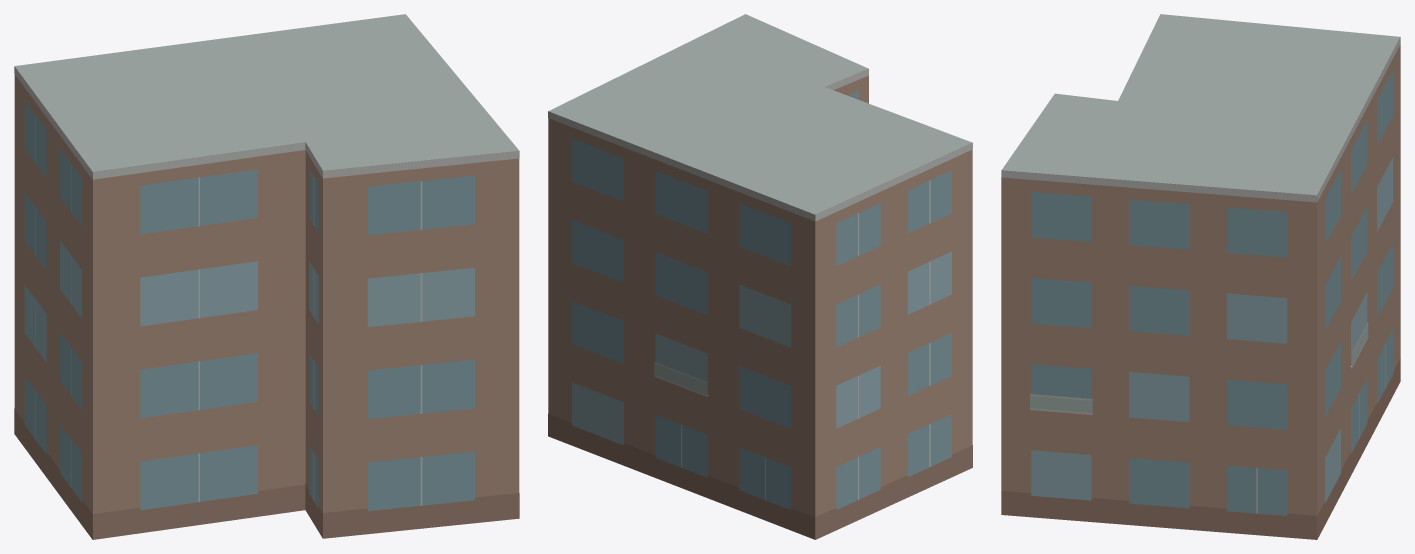
Rendered from survey-upis-32871074.glb.
3 renders of one model, left to right at view 1: azimuth 30°, elevation 25°; view 2: azimuth 150°, elevation 25°; view 3: azimuth 270°, elevation 25°, orthographic. The views are drawn at different scales.
Parts seen in each view (by area): view 1: survey-upis-32871074.tmp; view 2: survey-upis-32871074.tmp; view 3: survey-upis-32871074.tmp.
Part boxes in pixels (x1,y1,x2,y2): survey-upis-32871074.tmp: (14, 14, 519, 539); survey-upis-32871074.tmp: (548, 14, 972, 539); survey-upis-32871074.tmp: (1001, 14, 1400, 539).
Bounding box in the file's own units: 13.21 × 11.7 × 12.29.
